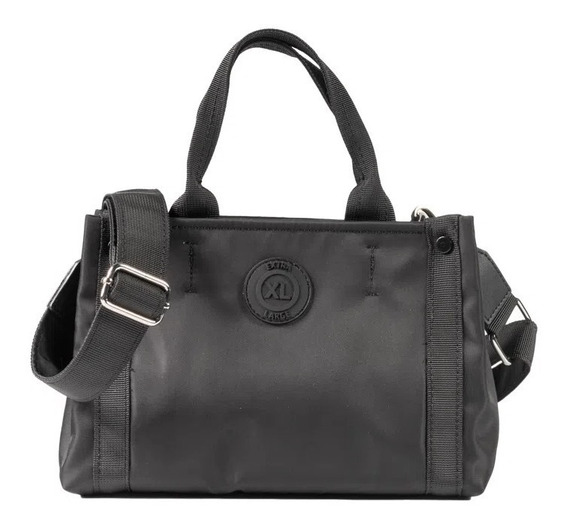cartera: (29, 29, 538, 499)
